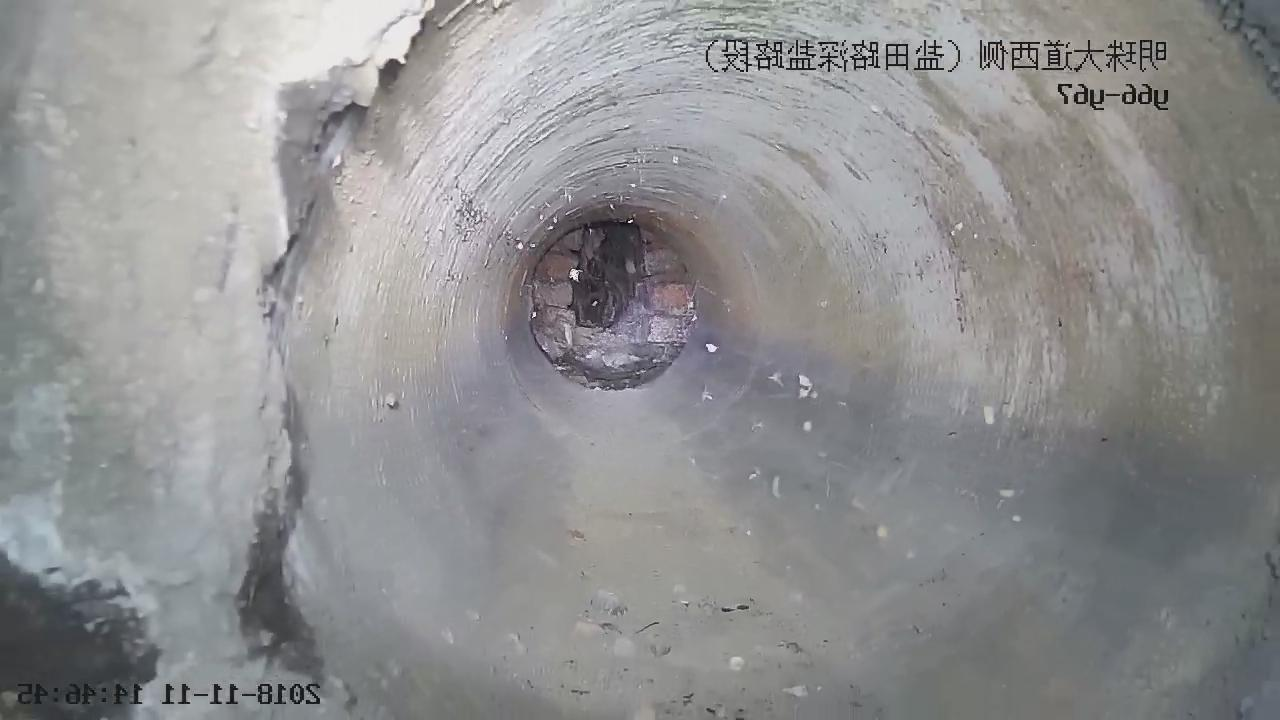CQBG: (528, 229, 696, 389)
